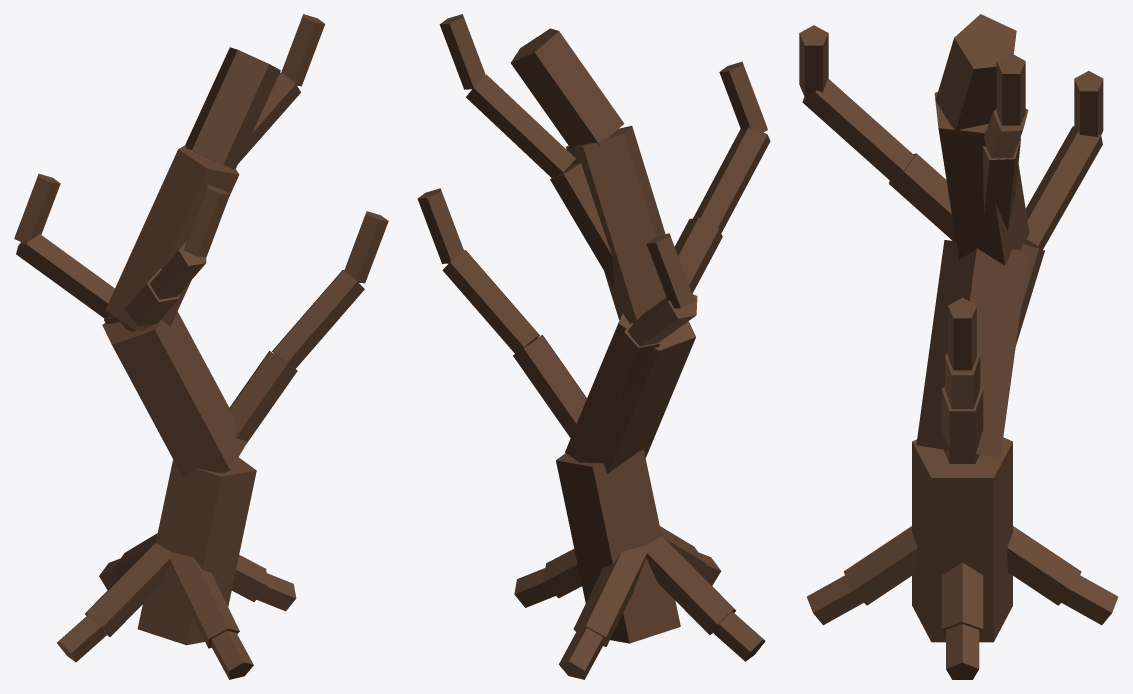
The model's file is DeadTree_A.fbx.
The picture shows the model from 3 angles, left to right: view 1: azimuth 30°, elevation 25°; view 2: azimuth 150°, elevation 25°; view 3: azimuth 270°, elevation 25°; orthographic projection. The views are drawn at different scales.
Visible parts, largest first — view 1: DeadTree_A; view 2: DeadTree_A; view 3: DeadTree_A.
Part boxes in pixels (x1,y1,x2,y2): DeadTree_A: (14,14,388,679); DeadTree_A: (417,14,770,679); DeadTree_A: (799,14,1118,679).
Size of the model in its own units: 1.29 by 2.15 by 0.9508.
Materials: 1 (1 with a texture image).
